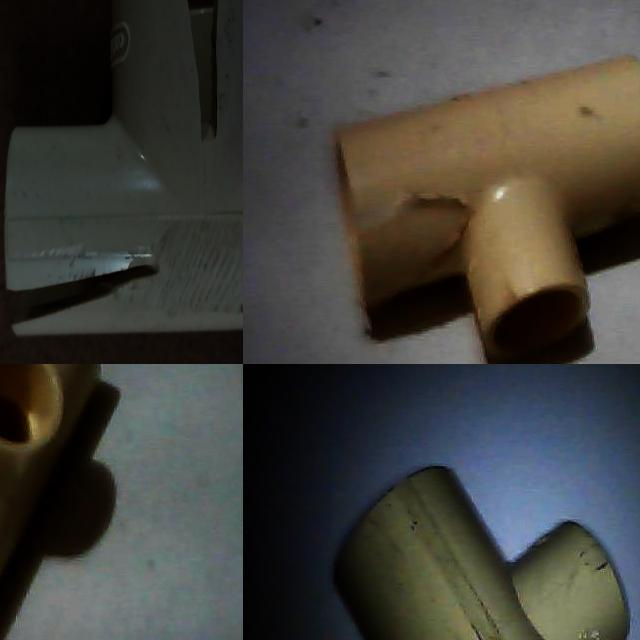Defective: (367, 176, 462, 306), (379, 200, 472, 295), (110, 338, 203, 364)
T Joint: (334, 56, 640, 364), (334, 466, 633, 640), (0, 106, 200, 364)
